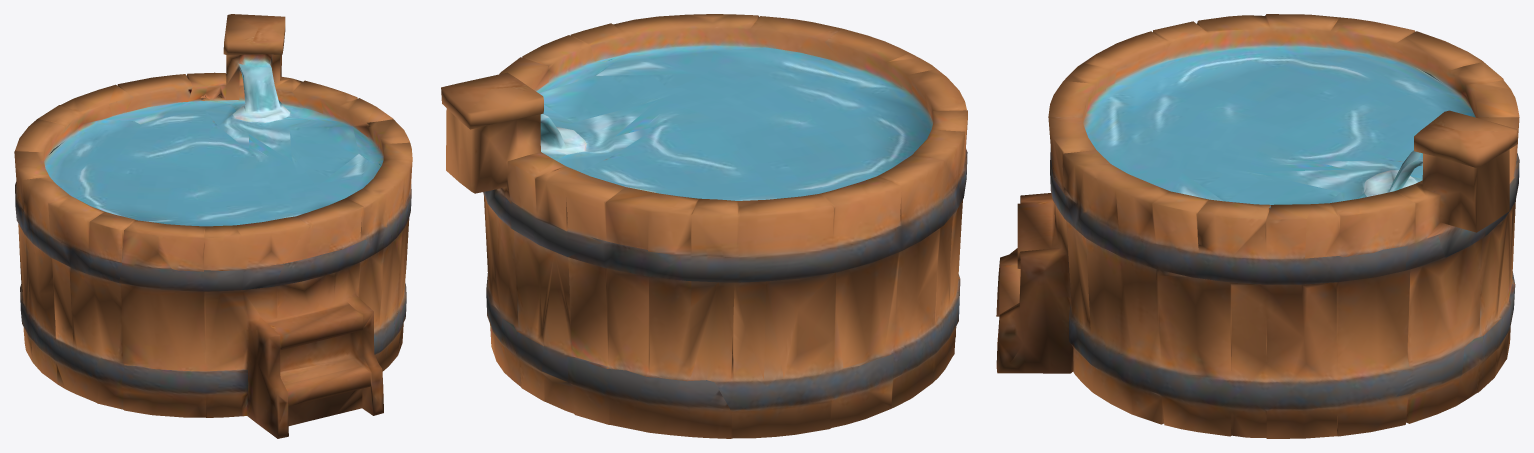
Rendered from hottub.glb.
3 views of the same model, side by side, from view 1: azimuth 30°, elevation 25°; view 2: azimuth 150°, elevation 25°; view 3: azimuth 270°, elevation 25° (orthographic). The views are drawn at different scales.
Parts seen in each view (by area): view 1: model; view 2: model; view 3: model.
Part boxes in pixels (x1,y1,x2,y2): model: (14, 14, 412, 438); model: (441, 14, 967, 438); model: (996, 14, 1519, 438).
Size of the model in its own units: 1.76 by 1.12 by 1.89.
1 material, 1 textured.
